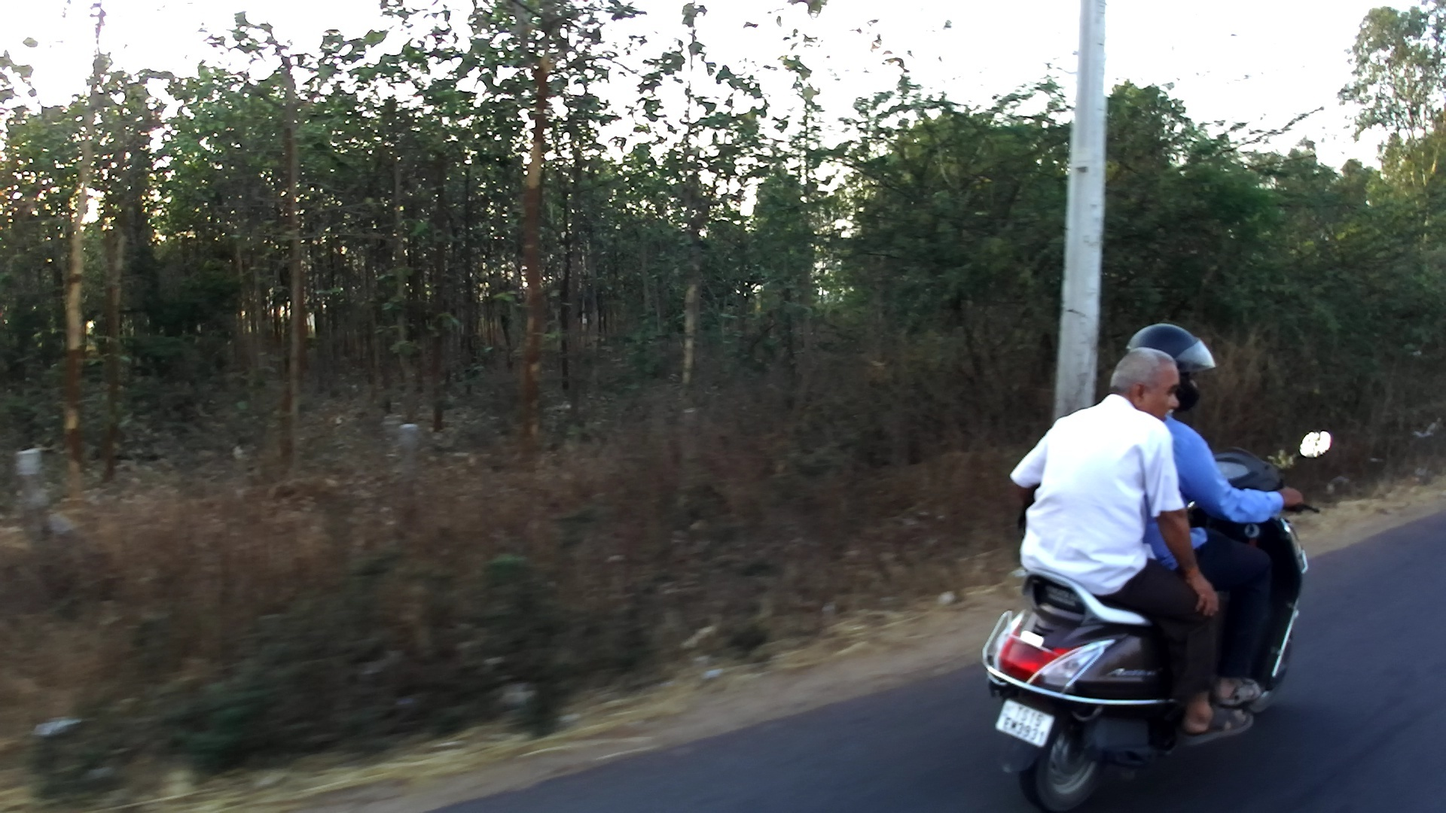motorcycle: (980, 428, 1334, 813)
rider: (1008, 346, 1252, 747), (1122, 323, 1306, 711)
